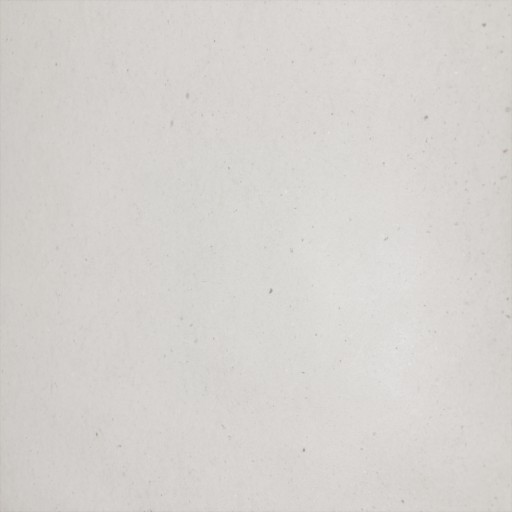lego: (241, 245, 271, 268)
